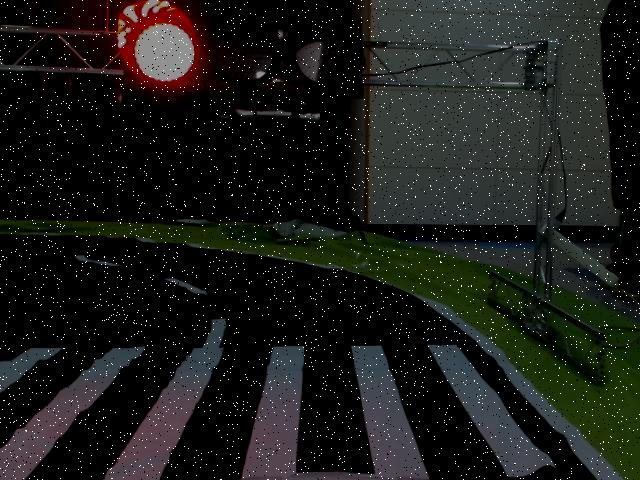crosswalk: (0, 344, 560, 480)
traffic light-red-: (118, 1, 365, 99)
